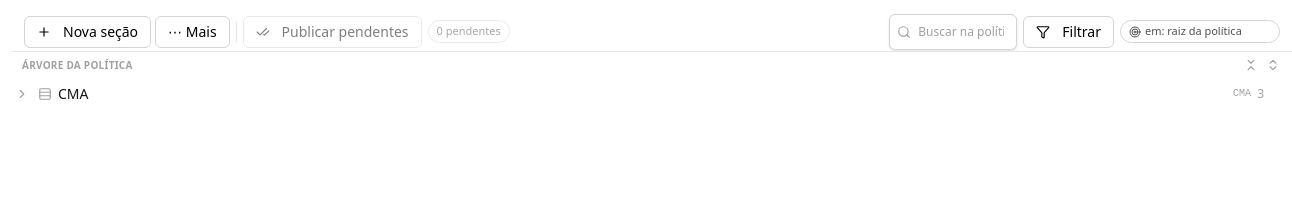
Scenario: PolicyTree — recolher/expandir tudo e Alt+clique (§17.1) › "Expandir tudo" abre todos os níveis e "Recolher tudo" fecha
Click the button named "Expandir tudo" at (1273, 65), box [1264,56,1282,74]
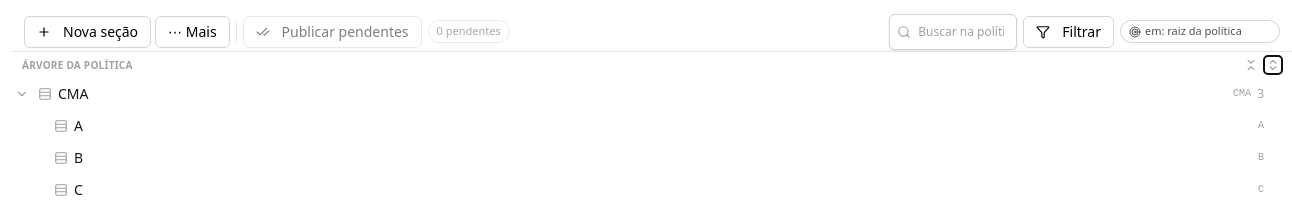
Check: the list item with test id "tree-node-B" is shown, box [54,148,1264,167]
Click the button named "Recolher tudo" at (1251, 65), box [1242,56,1260,74]
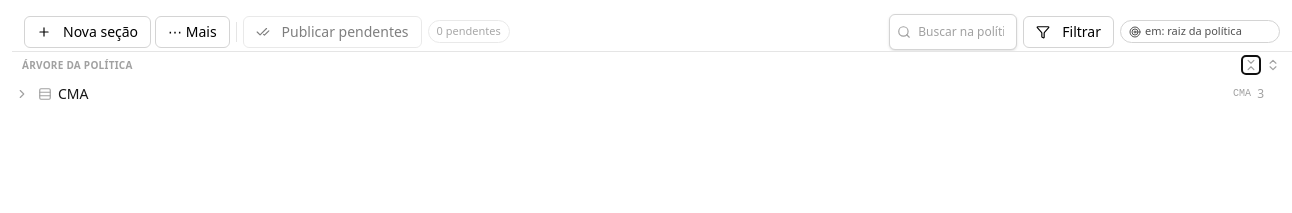
Check: the list item with test id "tree-node-B" is gone
